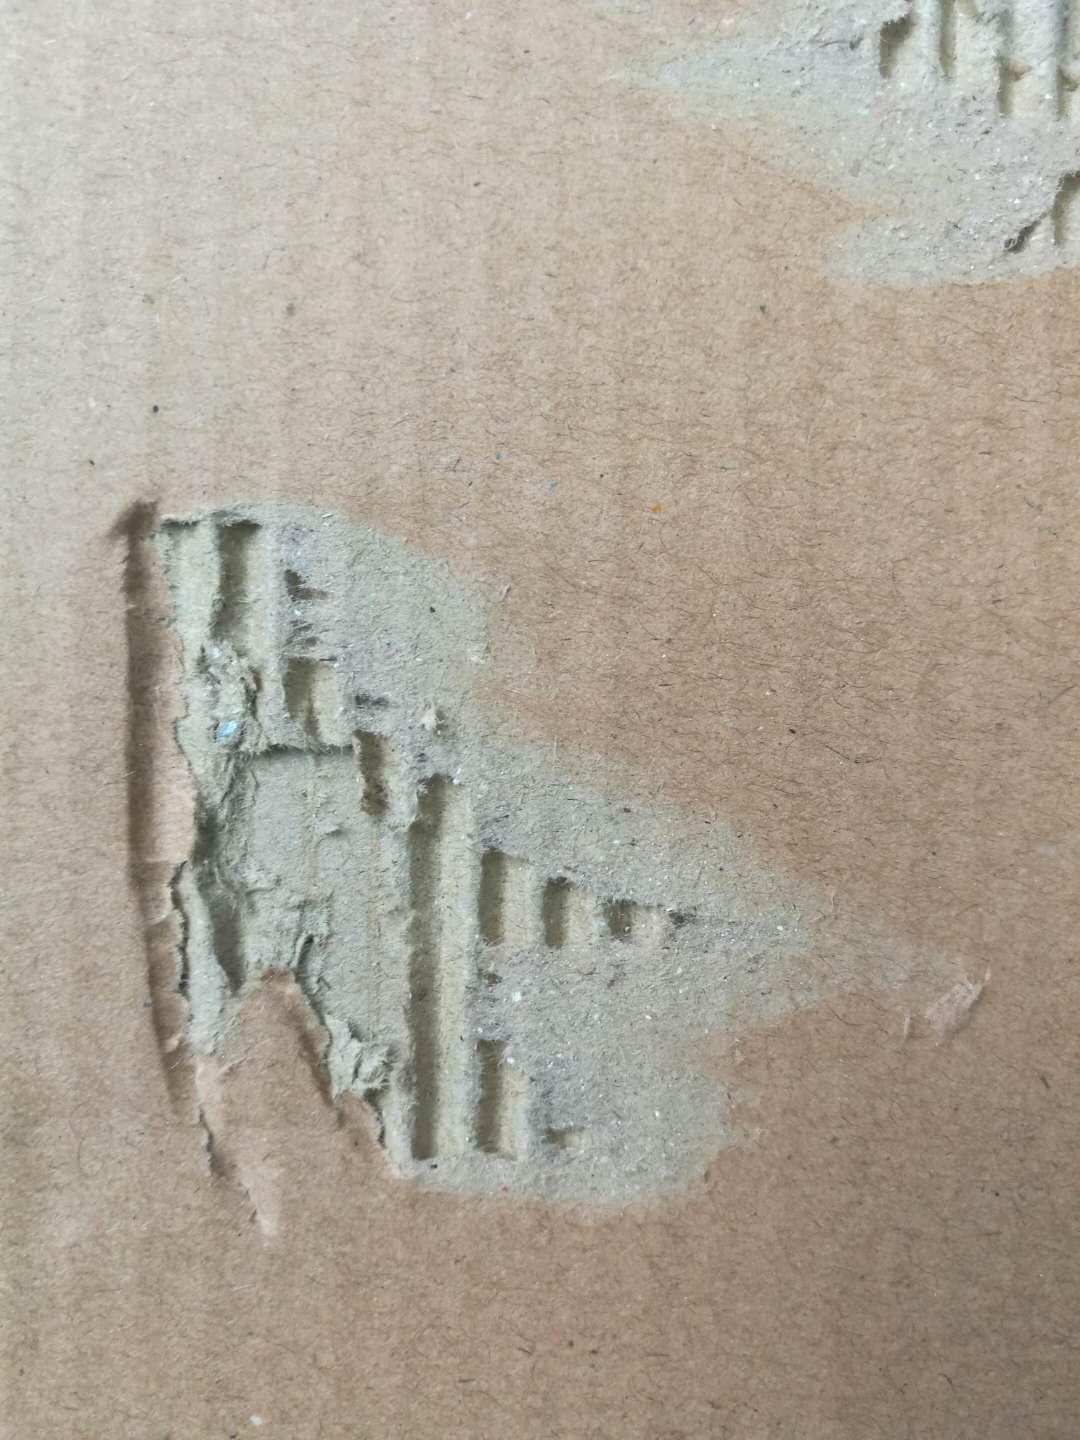defect: (71, 454, 1028, 1265), (571, 2, 1080, 366)
